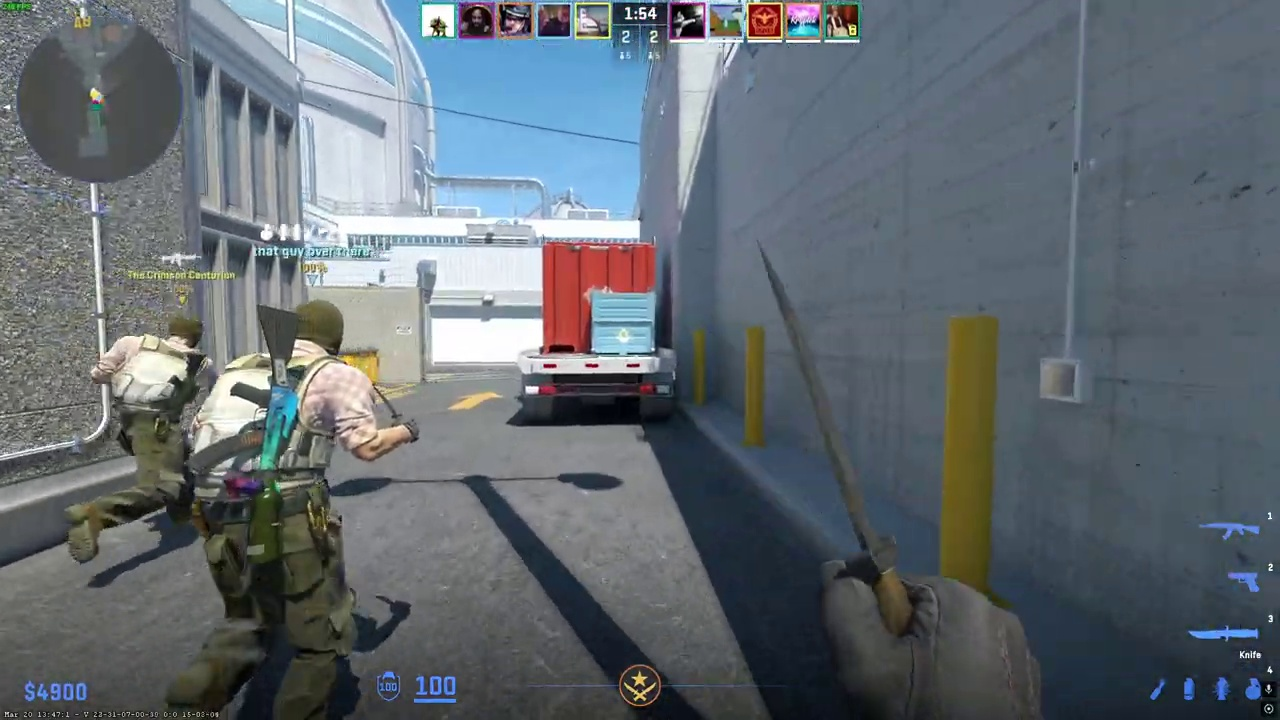Terrorist: (173, 299, 387, 720), (74, 317, 209, 568)
